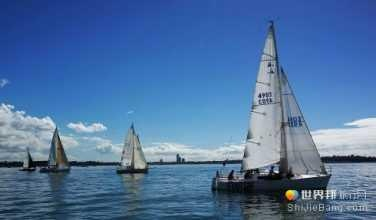fanchuan: (206, 22, 331, 196), (109, 124, 149, 174), (43, 129, 79, 172), (20, 146, 40, 172)
